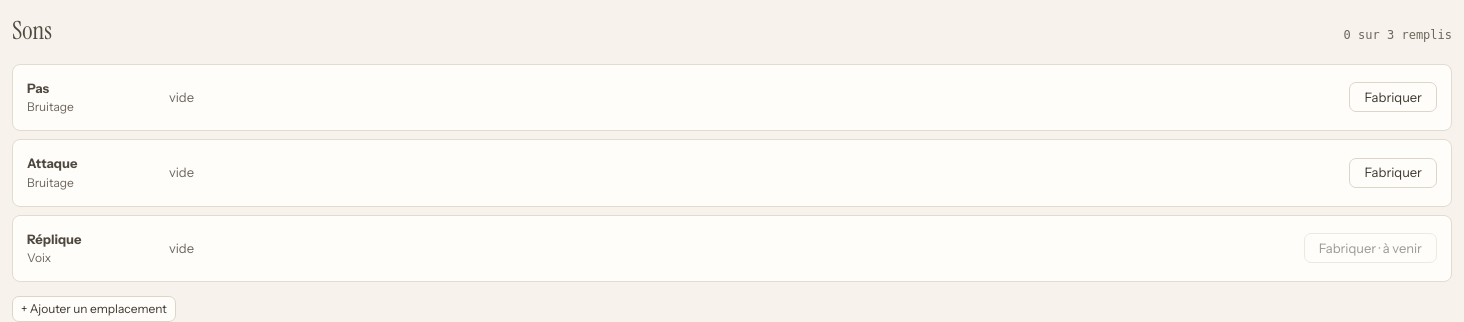
Scenario: nommer un emplacement à la main, avec sa famille
(page scrolled)
Click the button "+ Ajouter un emplacement" at (94, 309), box [12, 296, 176, 321]
(page scrolled)
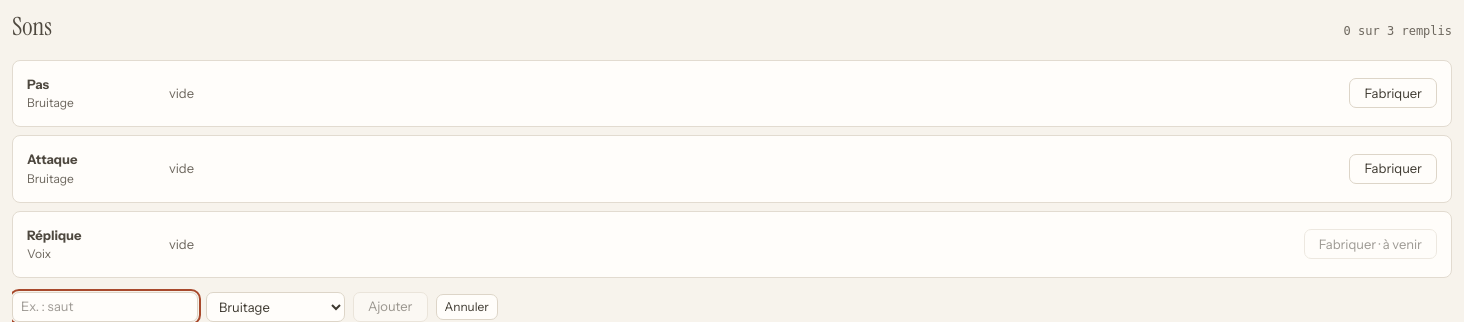
Type "saut" into the field named "Nom de l’emplacement" at (105, 307), box [12, 292, 198, 321]
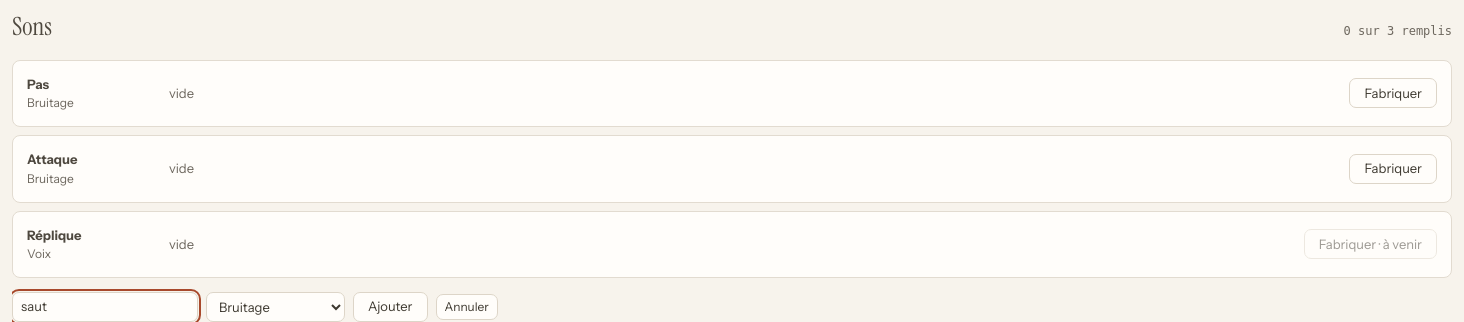
Select "Bruitage" in the dropdown named "Famille" at (276, 307), box [206, 292, 345, 321]
Click the button "Ajouter" at (390, 307), box [353, 292, 428, 321]
(page scrolled)
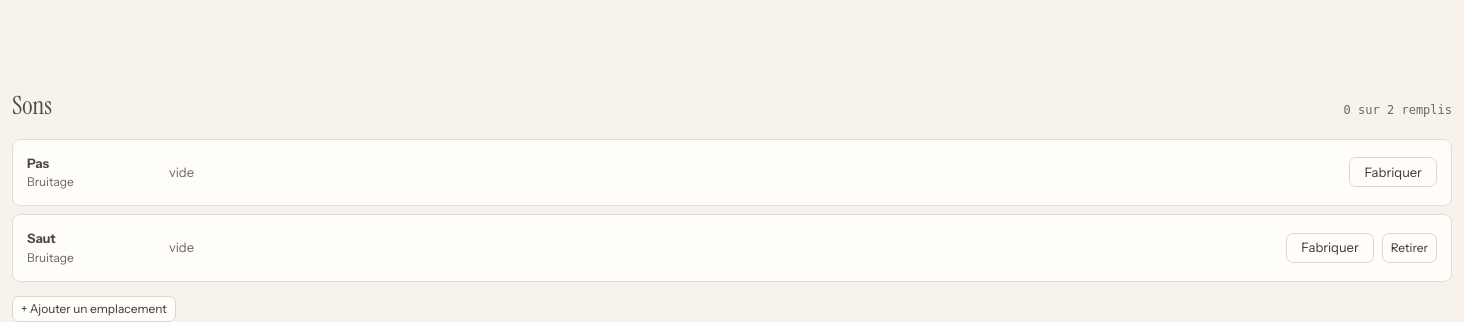
Check: the list item "Saut" is shown, box [12, 214, 1452, 282]
Check: the button with aria-label "Retirer l’emplacement Saut" is enabled, box [1382, 233, 1437, 263]
